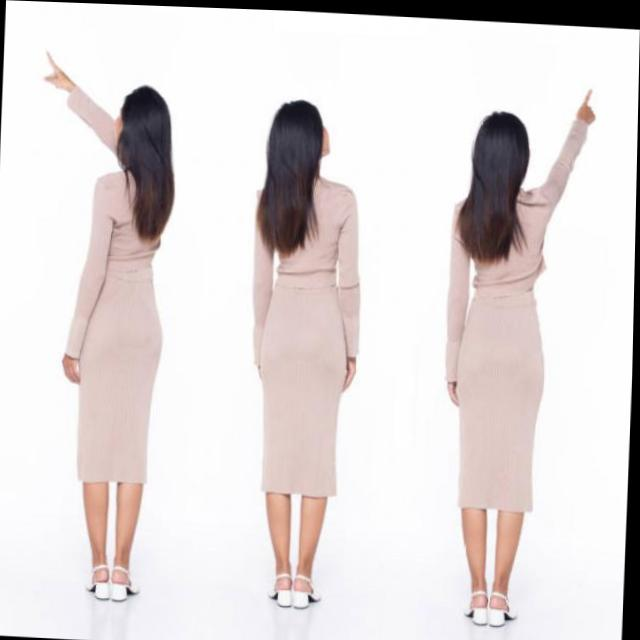no helmet: (112, 83, 176, 209), (266, 92, 335, 193), (469, 105, 532, 202)
